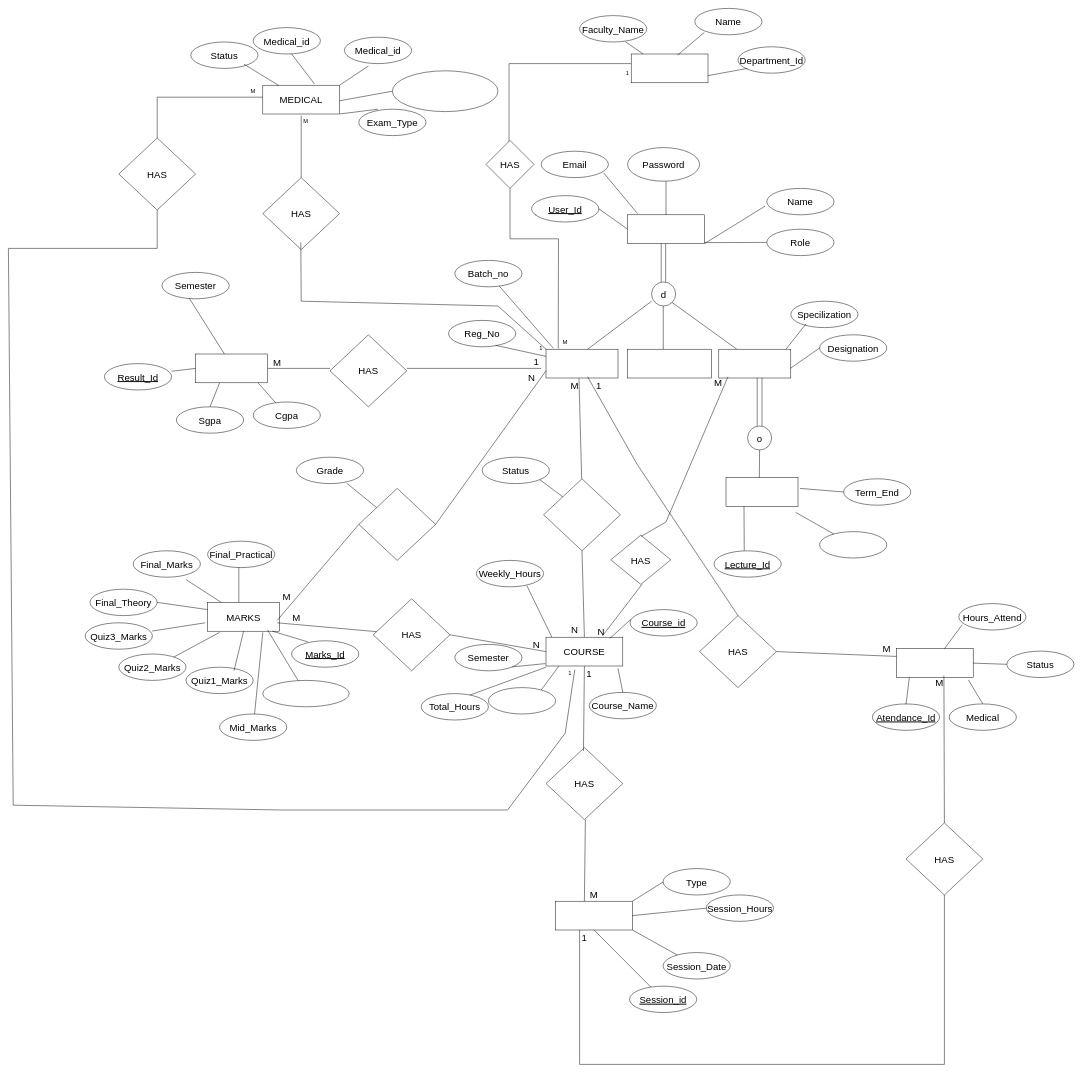
Some shapes in this 1082 by 1073 pixel diagram are drawn without their labels. The shapes that lost their labels are listed below. From the top down, each one's centre as x and y in pixels, then its label:
At point (669, 68): "DEPARTMENT".
At point (445, 91): "Date_Submitted_Date".
At point (665, 229): "USER".
At point (231, 368): "RESULT".
At point (582, 363): "STUDENT".
At point (669, 363): "TECH_OFFICER".
At point (754, 363): "LECTURE".
At point (762, 491): "DEAN".
At point (397, 524): "OBTAIN".
At point (581, 514): "STUDYING".
At point (853, 544): "Term_Start".
At point (934, 663): "ATTENDANCE".
At point (305, 693): "Assesment_Marks".
At point (522, 700): "Credit".
At point (593, 915): "SESSION".
